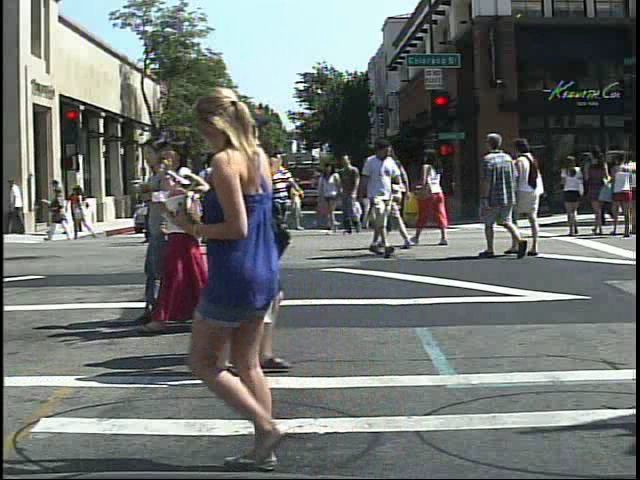person: (172, 77, 354, 476), (166, 119, 289, 381), (137, 134, 238, 343), (238, 105, 309, 366), (132, 130, 177, 332), (357, 133, 404, 259), (478, 127, 519, 263), (374, 133, 415, 252), (204, 142, 244, 260), (513, 133, 550, 260), (244, 150, 286, 261), (262, 147, 306, 251), (412, 143, 454, 251), (222, 150, 260, 252), (192, 153, 230, 252), (559, 150, 590, 239), (167, 172, 188, 240), (68, 182, 88, 232)
